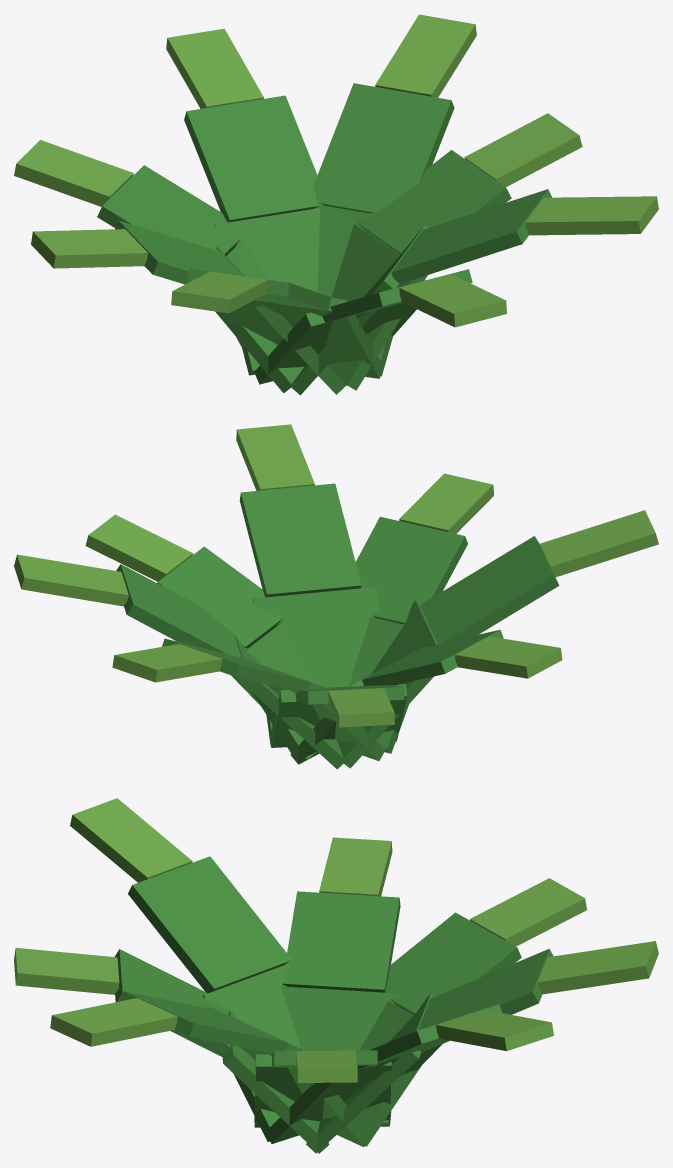
File: B11_fern.obj
3 renders of one model, top to bottom at view 1: azimuth 30°, elevation 25°; view 2: azimuth 150°, elevation 25°; view 3: azimuth 270°, elevation 25°, orthographic. The views are drawn at different scales.
Visible parts, largest first — view 1: B11_fern; view 2: B11_fern; view 3: B11_fern.
Boxes of the visible parts, x1,y1,x2,y2 form: B11_fern: [14, 14, 658, 395]; B11_fern: [14, 424, 658, 769]; B11_fern: [14, 798, 658, 1153].
Size of the model in its own units: 1.45 by 0.5783 by 1.62.
